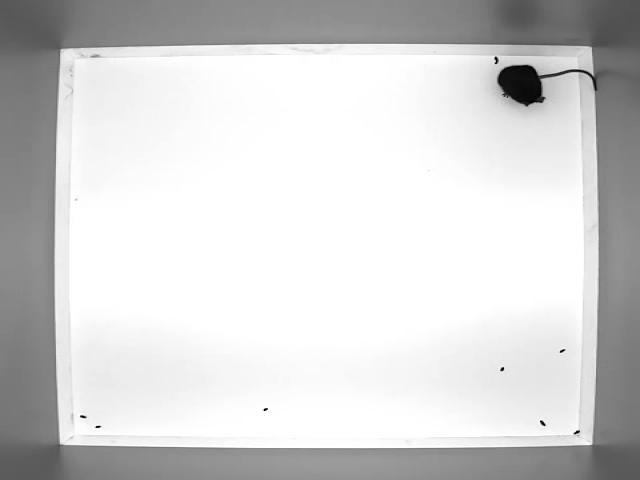Tikus: (496, 61, 600, 109)
